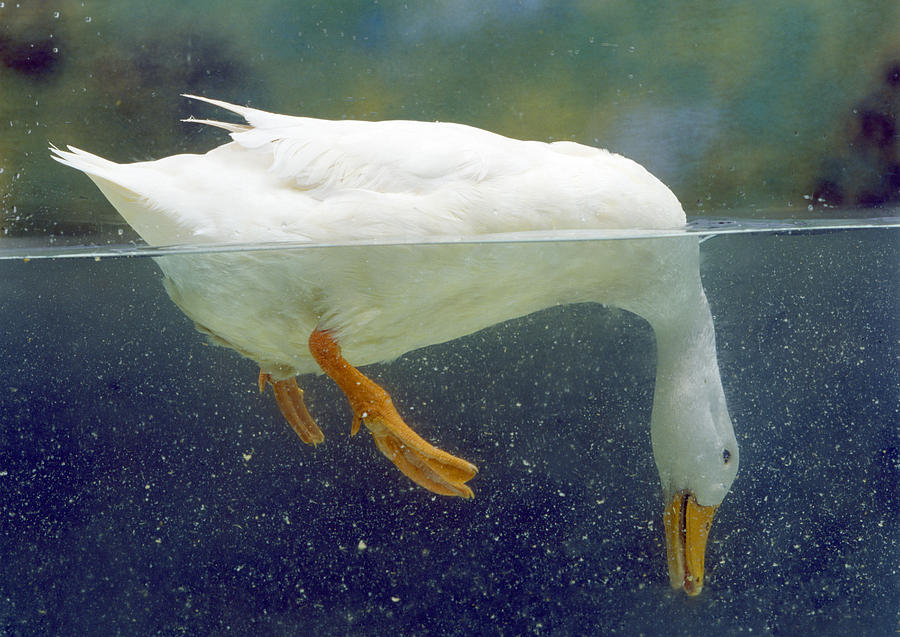Mencari Makan di Lumpur: (649, 489, 722, 602)
